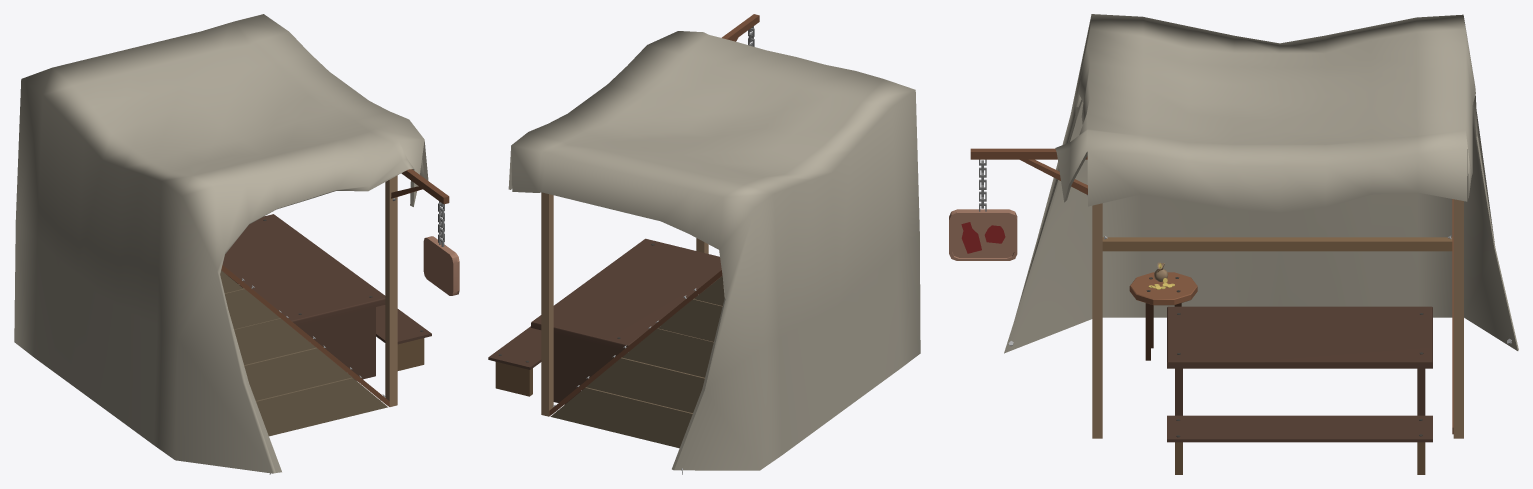
The model's file is StandPoteriesVide.fbx.
The picture shows the model from 3 angles, left to right: view 1: azimuth 30°, elevation 25°; view 2: azimuth 150°, elevation 25°; view 3: azimuth 270°, elevation 25°; orthographic projection. The views are drawn at different scales.
Visible parts, largest first — view 1: StandPoteriesVide:pCylinder78; view 2: StandPoteriesVide:pCylinder78; view 3: StandPoteriesVide:pCylinder78.
Boxes of the visible parts, x1,y1,x2,y2 form: StandPoteriesVide:pCylinder78: (14, 14, 459, 474); StandPoteriesVide:pCylinder78: (488, 14, 920, 474); StandPoteriesVide:pCylinder78: (949, 14, 1518, 474).
Size of the model in its own units: 323 by 289 by 478.
